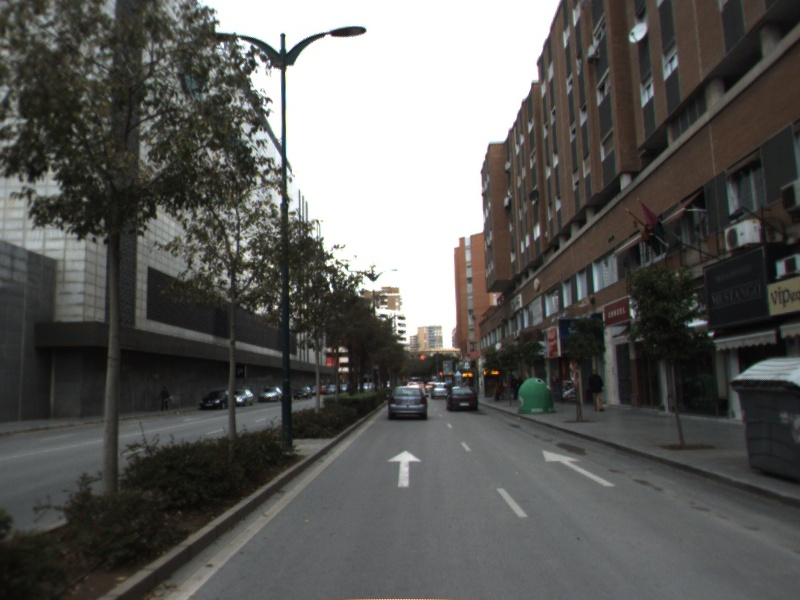STRAIGHT: (540, 448, 618, 488), (385, 448, 424, 490)
